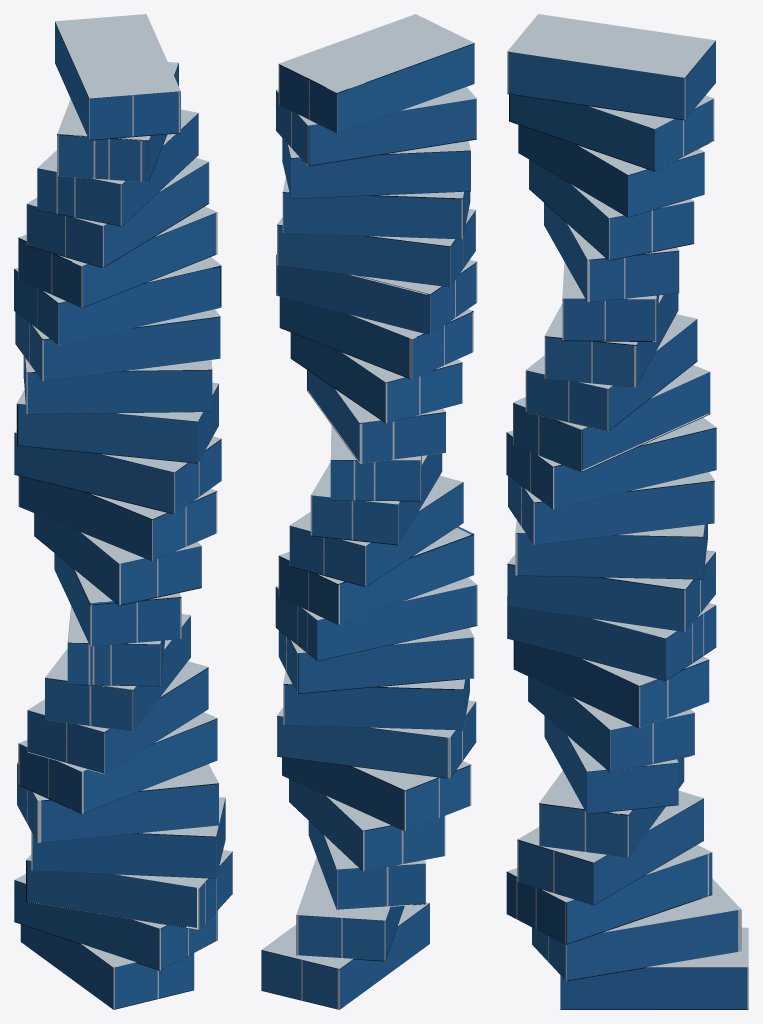
Rendered from DNA.fbx.
3 renders of one model, left to right at view 1: azimuth 30°, elevation 25°; view 2: azimuth 150°, elevation 25°; view 3: azimuth 270°, elevation 25°, orthographic. The views are drawn at different scales.
Parts seen in each view (by area): view 1: Cube; view 2: Cube; view 3: Cube.
Part boxes in pixels (x1,y1,x2,y2): Cube: (14,14,232,1009); Cube: (261,14,477,1009); Cube: (506,14,748,1009).
Bounding box in the file's own units: 469 × 2201 × 514.
1 material, 1 textured.
